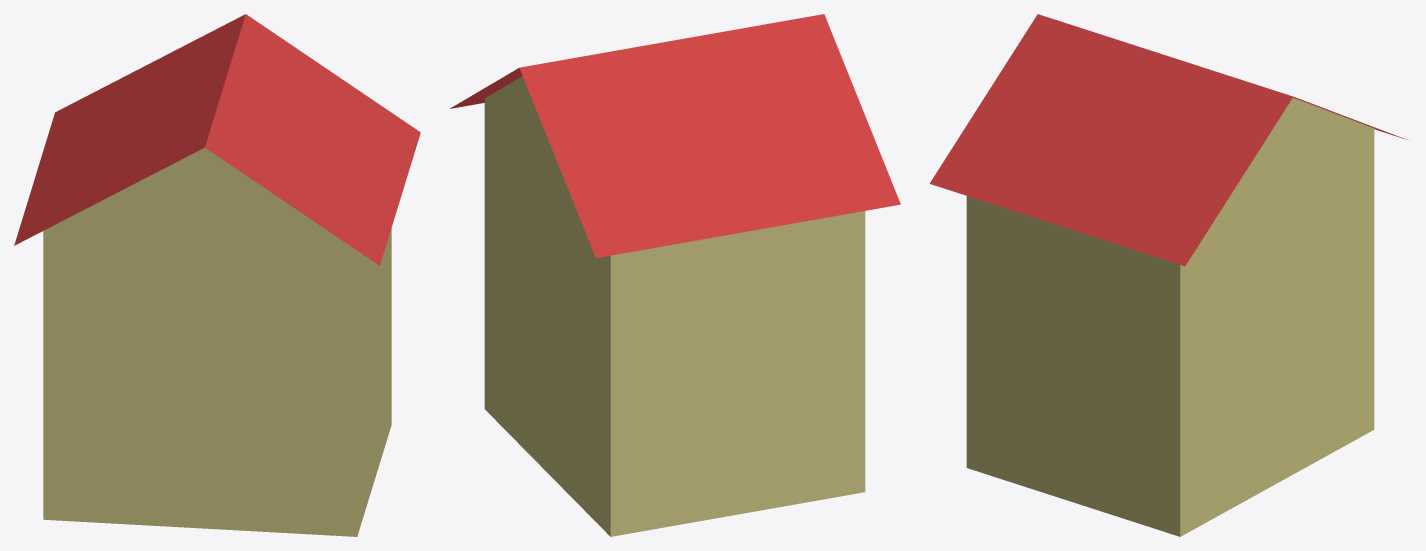
The picture shows the model from 3 angles, left to right: view 1: azimuth 30°, elevation 25°; view 2: azimuth 150°, elevation 25°; view 3: azimuth 270°, elevation 25°; orthographic projection. The views are drawn at different scales.
Parts seen in each view (by area): view 1: group_5, group_3, group_4; view 2: group_5, group_3, group_4; view 3: group_5, group_3.
Part boxes in pixels (left/top/right/bottom): group_5: left=43, top=147, right=391, bottom=536; group_3: left=43, top=14, right=420, bottom=265; group_4: left=14, top=14, right=246, bottom=245; group_5: left=484, top=76, right=865, bottom=536; group_3: left=519, top=18, right=865, bottom=258; group_4: left=450, top=14, right=900, bottom=257; group_5: left=966, top=97, right=1374, bottom=536; group_3: left=929, top=14, right=1393, bottom=266.
Bounding box in the file's own units: 13.93 × 13.66 × 12.39.
